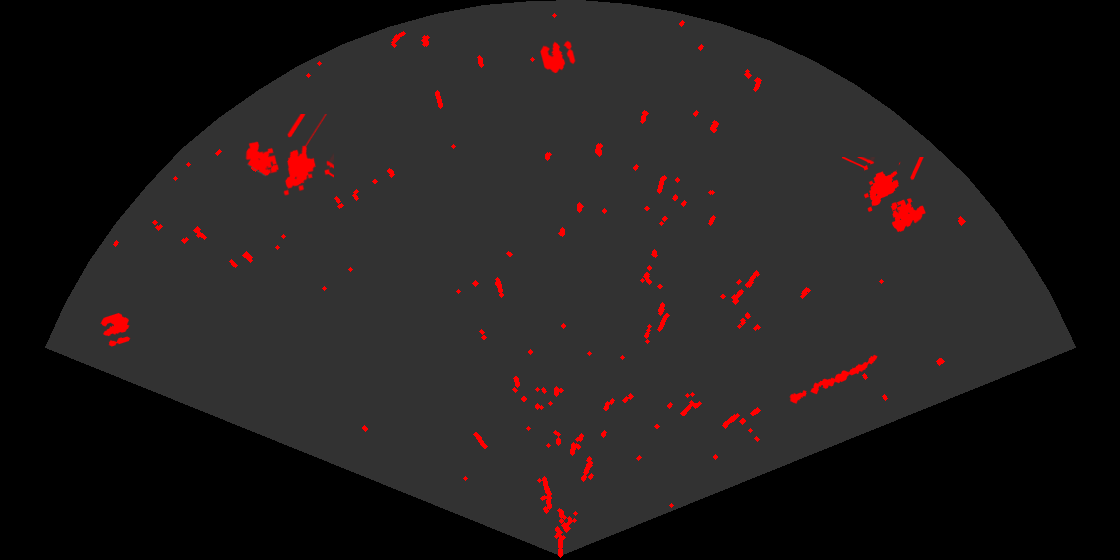ball: (539, 39, 577, 75), (99, 311, 132, 348)
cage: (244, 114, 334, 197), (842, 157, 927, 234)
chain: (788, 353, 879, 405)
